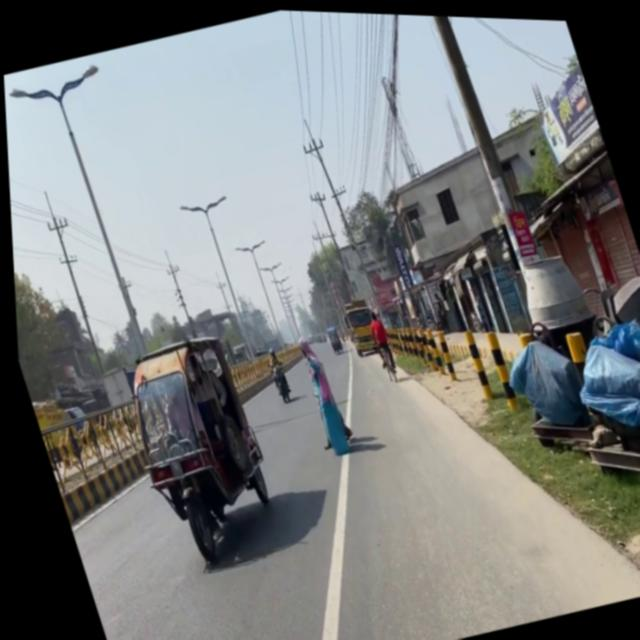Bench: (377, 301, 513, 431)
Construction-barrier: (53, 465, 157, 534)
Dog: (493, 326, 589, 437)
Fallen-tree: (370, 337, 396, 382)
Garbage: (485, 262, 640, 504)
Garbage-bin: (286, 328, 349, 447), (360, 306, 393, 368), (257, 343, 288, 394)
Traffic-cone: (102, 324, 286, 572), (335, 292, 381, 356)
